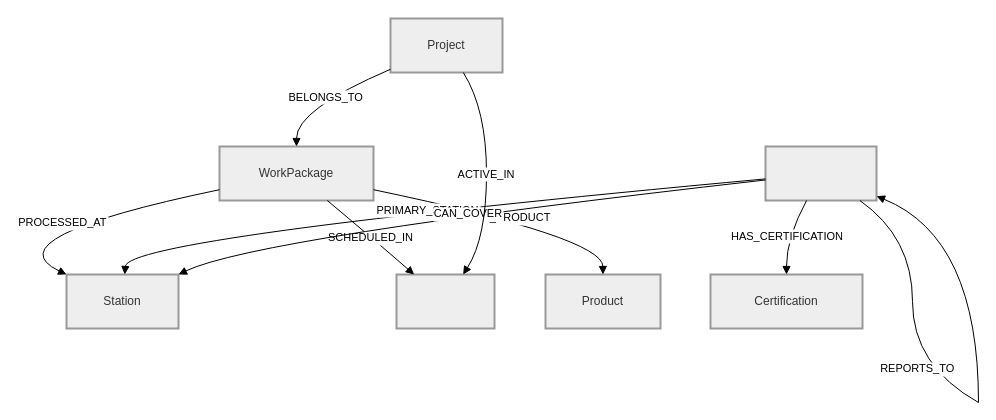
Image size: 996x420. Some labels were removed from this diagram. Here are the shapes that lost their labels. From the top down, the centre of each, then its label:
At (820,173): "Worker".
At (445,301): "Week".
